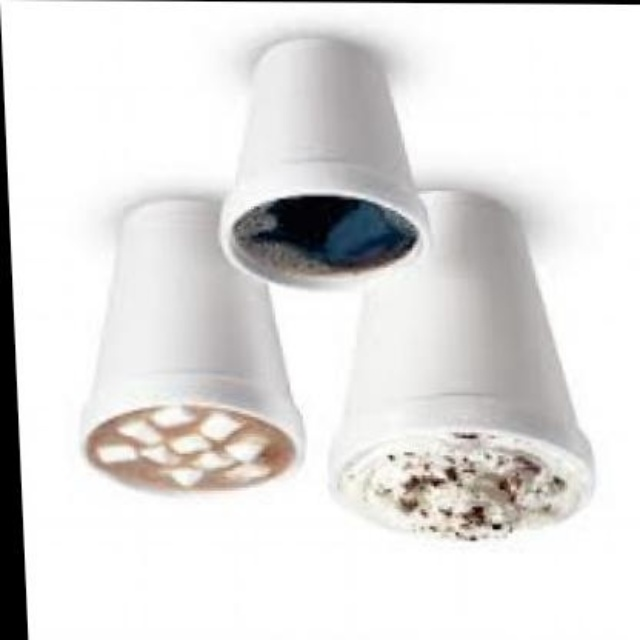trash: (85, 38, 591, 538), (220, 38, 591, 538), (85, 197, 302, 489)
